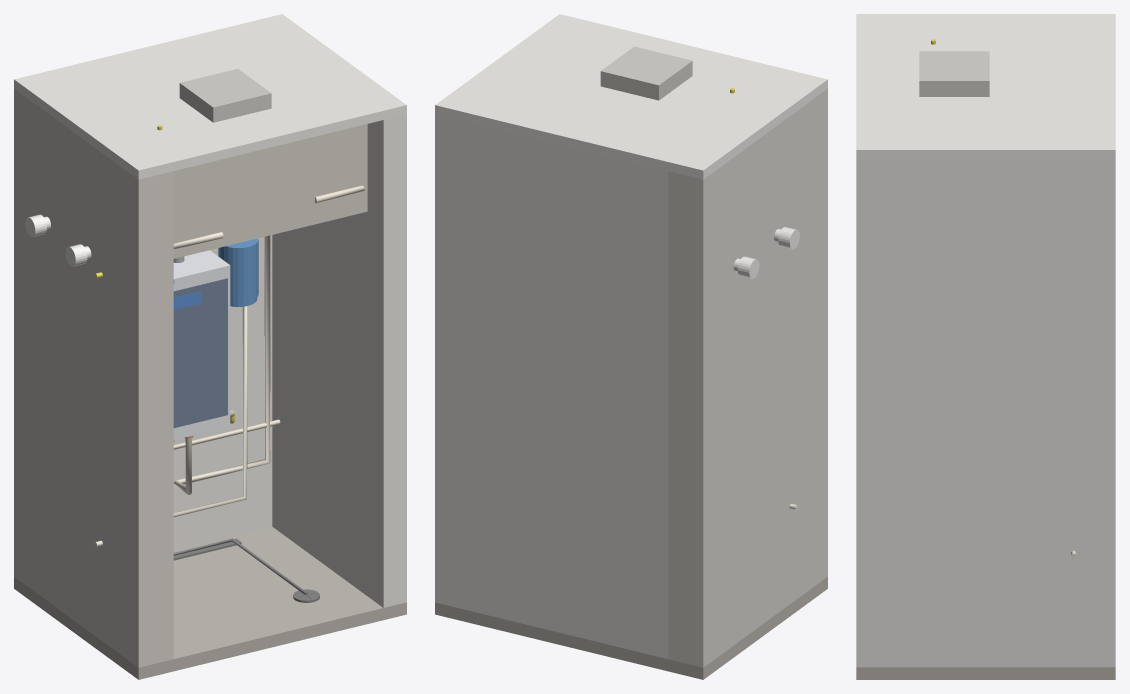
Rendered from boiler_closet_v14_i120cn.glb.
3 views of the same model, side by side, from view 1: azimuth 30°, elevation 25°; view 2: azimuth 150°, elevation 25°; view 3: azimuth 270°, elevation 25° (orthographic). The views are drawn at different scales.
Visible parts, largest first — view 1: WallLeft, WallRight, Ceiling, Floor, AirHandler, WallBack, RinnaiFace, SupplyDuct, Rinnai, CH_Supply, ExpTank_DHW, Exp_DHW_Run; view 2: WallBack, WallLeft, Ceiling, WallRight, Floor, SupplyDuct; view 3: WallRight, Ceiling, Floor, SupplyDuct.
Boxes of the visible parts, x1,y1,x2,y2 form: WallLeft: (14, 89, 173, 667); WallRight: (272, 114, 406, 607); Ceiling: (14, 14, 406, 179); Floor: (14, 526, 406, 679); AirHandler: (173, 124, 367, 258); WallBack: (173, 235, 272, 550); RinnaiFace: (173, 278, 227, 428); SupplyDuct: (179, 68, 271, 122); Rinnai: (173, 250, 230, 439); CH_Supply: (174, 185, 364, 494); ExpTank_DHW: (218, 238, 258, 302); Exp_DHW_Run: (173, 306, 247, 517); WallBack: (458, 120, 668, 658); WallLeft: (668, 89, 827, 667); Ceiling: (435, 14, 827, 179); WallRight: (435, 114, 458, 607); Floor: (435, 577, 827, 679); SupplyDuct: (600, 46, 692, 100); WallRight: (856, 159, 1115, 667); Ceiling: (856, 14, 1115, 159); Floor: (856, 667, 1115, 679); SupplyDuct: (919, 51, 989, 96).
Size of the model in its own units: 1.27 by 2.18 by 0.9398.
